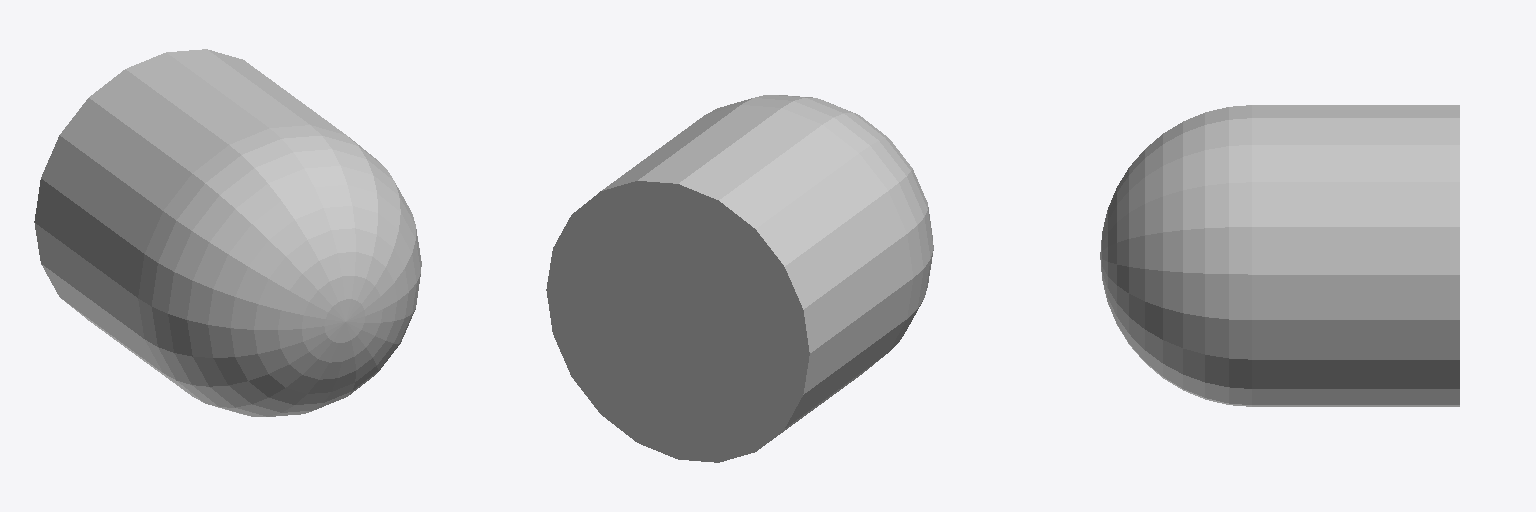
Rendered from statue.obj.
The picture shows the model from 3 angles: view 1: azimuth 30°, elevation 25°; view 2: azimuth 150°, elevation 25°; view 3: azimuth 270°, elevation 25°; orthographic projection.
Size of the model in its own units: 1.1 by 1.1 by 1.3.